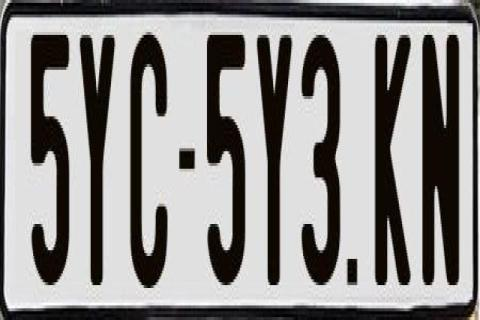0: (298, 32, 342, 288), (205, 26, 243, 288), (30, 26, 69, 276)
C: (128, 27, 170, 286)
K: (374, 26, 415, 276)
N: (421, 32, 462, 285)
Y: (76, 32, 118, 300), (256, 32, 296, 296)
